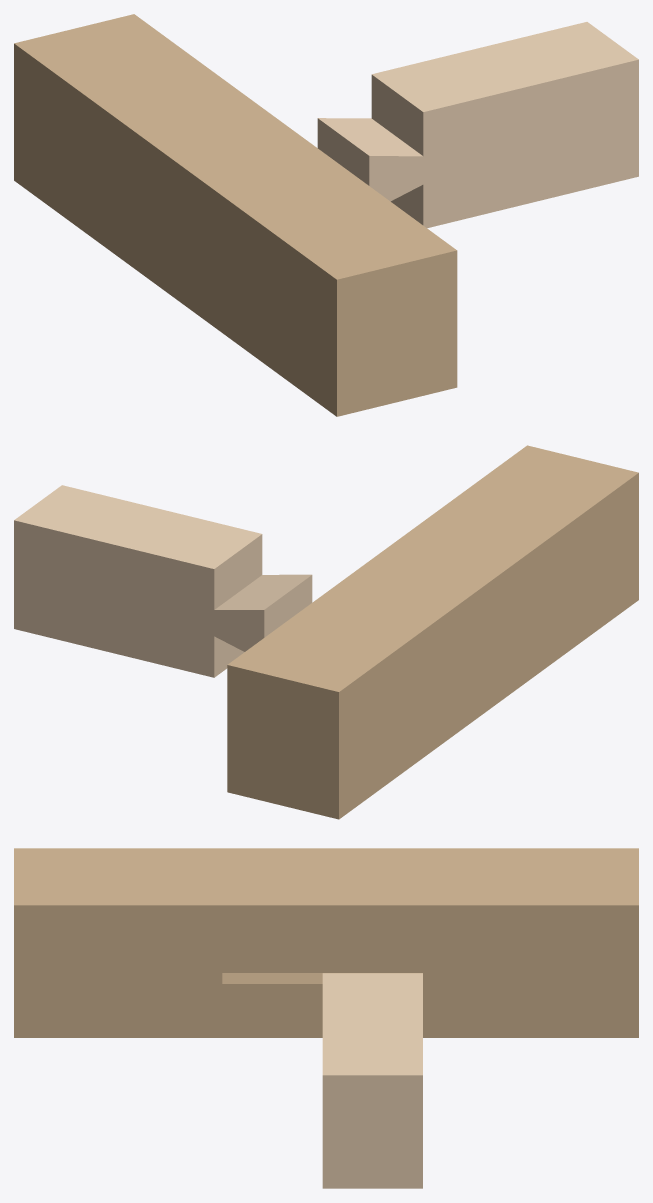
The model's file is Okuri Ari.glb.
3 renders of one model, top to bottom at view 1: azimuth 30°, elevation 25°; view 2: azimuth 150°, elevation 25°; view 3: azimuth 270°, elevation 25°, orthographic. The views are drawn at different scales.
Bounding box in the file's own units: 16.88 × 4.79 × 20.45.
